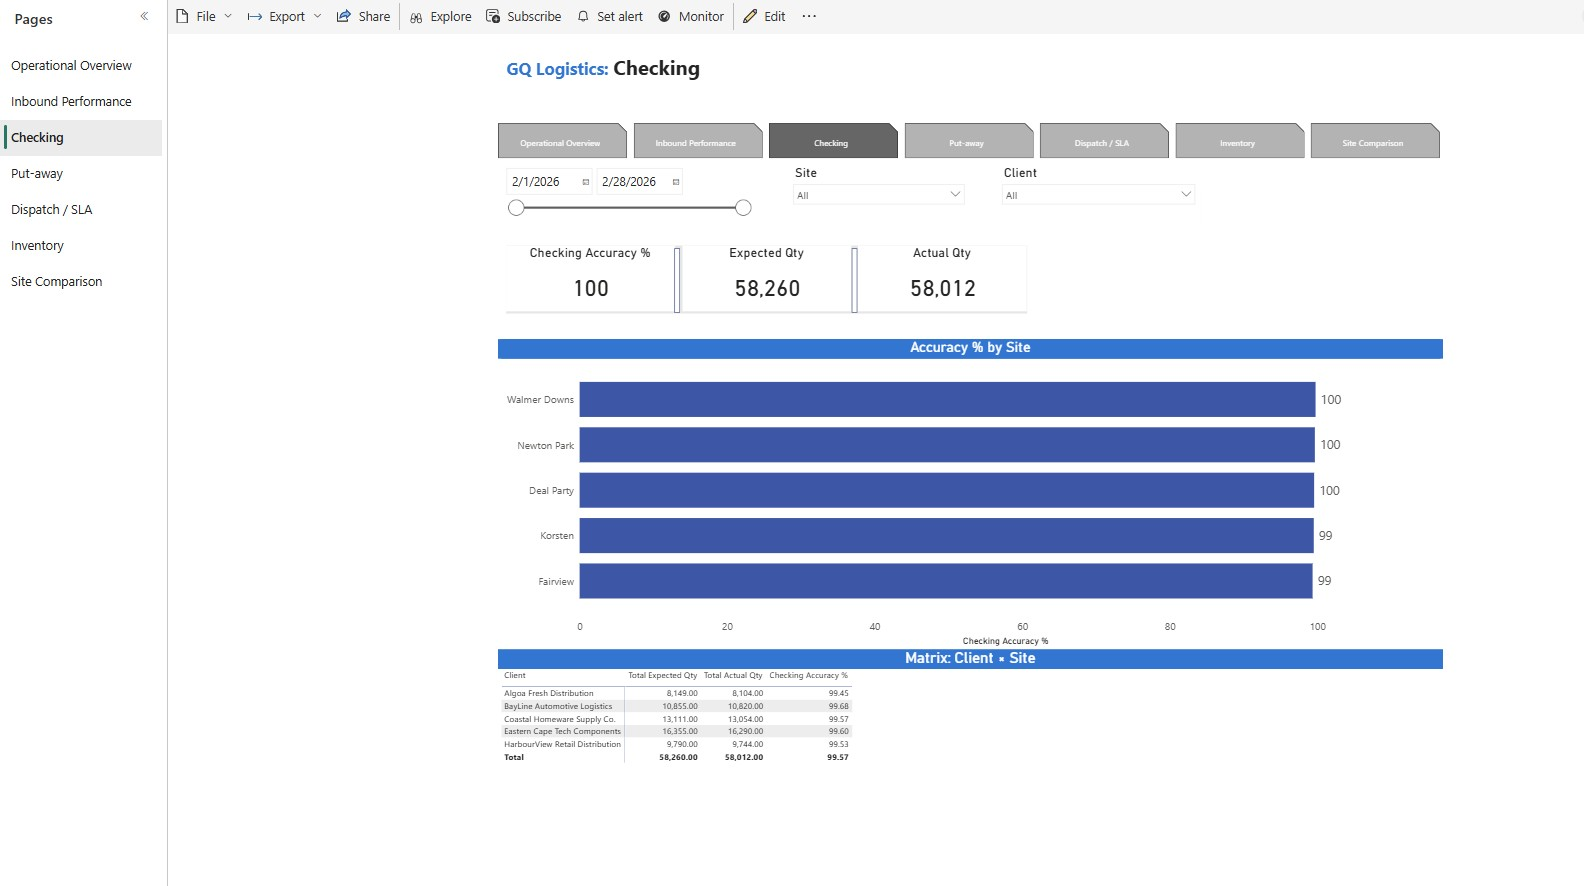

This screenshot's page, from the dashboard's own definition file:
{"tool":"powerbi","page":{"name":"Checking","canvas":[1500,2300],"ordinal":2},"visuals":[{"type":"pivotTable","title":"Matrix: Client × Site ","fields":{"Values":["factchecking.Total Expected Qty","factchecking.Total Actual Qty","factchecking.Checking Accuracy %"],"Rows":["dimclient.Client"]},"box":[0,961.7,1500,538.3],"z":0},{"type":"barChart","title":"Accuracy % by Site ","fields":{"Category":["dimsite.Site"],"Y":["factchecking.Checking Accuracy %"]},"box":[0,470,1500,491.7],"z":1000},{"type":"pageNavigator","box":[0,126.7,1496.7,56.7],"z":2000},{"type":"slicer","fields":{"Values":["dimdate.Date"]},"box":[0,188.3,410,106.7],"z":3000},{"type":"slicer","fields":{"Values":["dimclient.Client"]},"box":[790,188.3,326.7,106.7],"z":4000},{"type":"slicer","fields":{"Values":["dimsite.Site"]},"box":[458.3,188.3,291.7,106.7],"z":5000},{"type":"textbox","box":[8.3,10,1489,105],"z":6000},{"type":"group","id":"g1","title":"Group 1","box":[13.3,321.7,826,106.7],"z":7000},{"type":"card","title":"Checking Accuracy %","fields":{"Values":["factchecking.Checking Accuracy %"]},"box":[13.3,321.7,267.2,104.7],"z":8000,"group":"g1"},{"type":"shape","box":[280.5,325.6,9,102.8],"z":10000,"group":"g1"},{"type":"card","title":"Expected Qty","fields":{"Values":["factchecking.Total Expected Qty"]},"box":[292.7,321.7,267.2,104.7],"z":11000,"group":"g1"},{"type":"card","title":"Actual Qty","fields":{"Values":["factchecking.Total Actual Qty"]},"box":[572.1,321.7,267.2,104.7],"z":13000,"group":"g1"},{"type":"shape","box":[561.9,325.6,9,102.8],"z":14000,"group":"g1"}]}

Visuals, with their boxes on the page's 1500x2300 design canvas (x1, y1, x2, y2). These are canvas units, not pixel positions in the 1584x886 screenshot, which may show the page scaled, cropped or inside an application window:
"Matrix: Client × Site " pivotTable: (0,962,1500,1500)
"Accuracy % by Site " barChart: (0,470,1500,962)
pageNavigator: (0,127,1497,183)
slicer - dimdate.Date: (0,188,410,295)
slicer - dimclient.Client: (790,188,1117,295)
slicer - dimsite.Site: (458,188,750,295)
textbox: (8,10,1497,115)
"Group 1" group: (13,322,839,428)
"Checking Accuracy %" card: (13,322,280,426)
shape: (280,326,290,428)
"Expected Qty" card: (293,322,560,426)
"Actual Qty" card: (572,322,839,426)
shape: (562,326,571,428)
